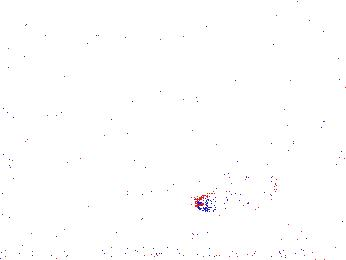flame jellyfish: (194, 154, 277, 217), (37, 169, 118, 218), (243, 162, 304, 213)
